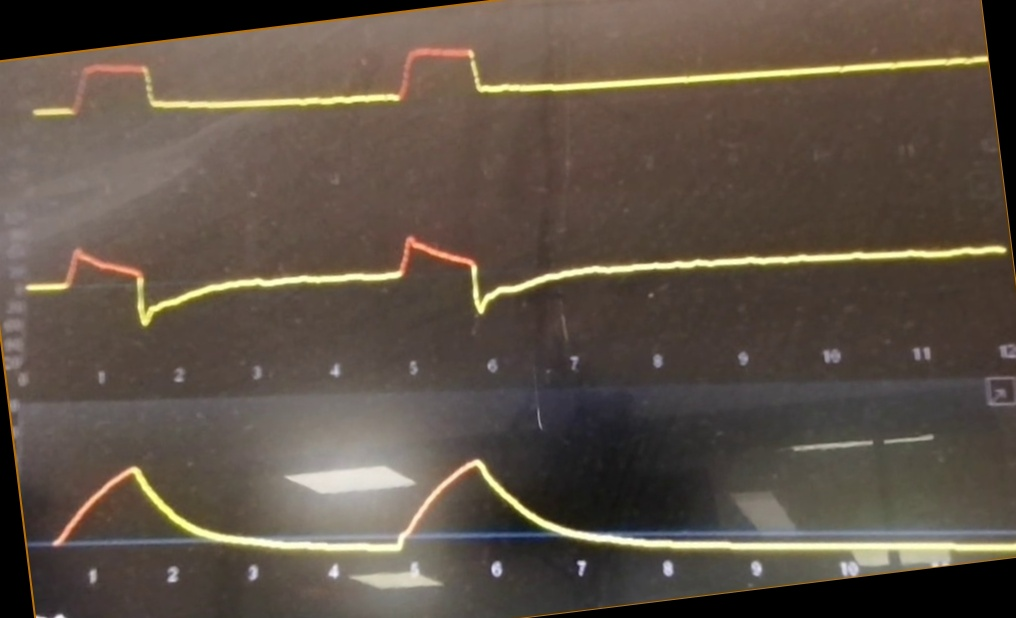Normal Flow: (23, 201, 1003, 332)
Normal Volume: (47, 420, 995, 560)
